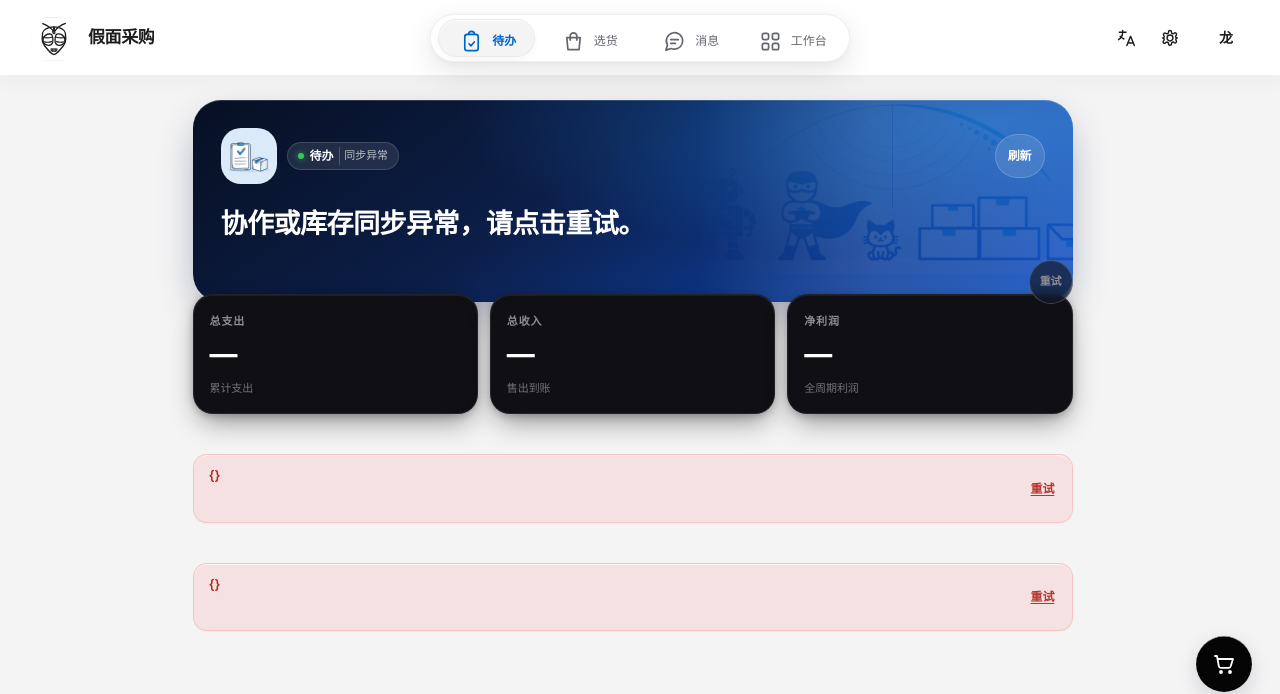
Scenario: Dashboard favorite synchronization › carries the full price split, seller state, value evidence and china reference in the detail
The width and height of the screenshot is (1280, 694).
Click the button with aria-label "选货" at (589, 41), box [538, 19, 640, 63]
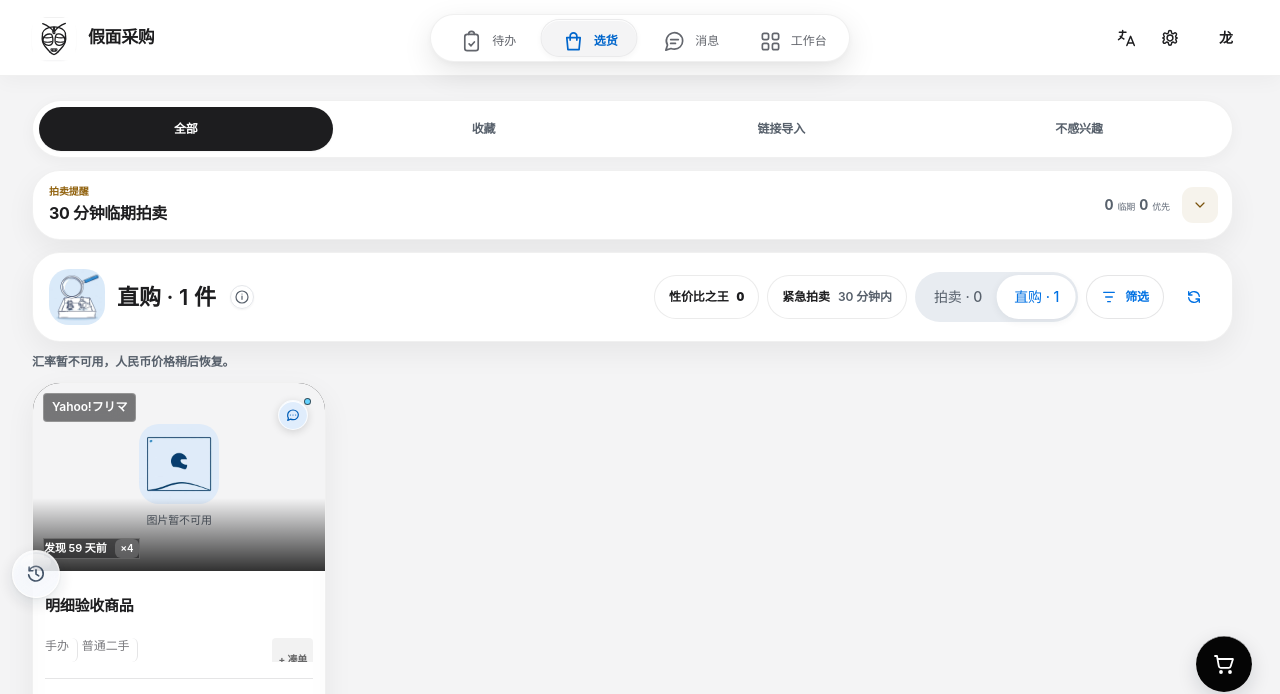
Result: the element named "在售商品类型" is shown at [915, 272, 1078, 322]
Result: the button named "打开商品：明细验收商品" is shown
Click the button named "打开商品：明细验收商品" at (179, 477), box [33, 383, 325, 571]
(page scrolled)
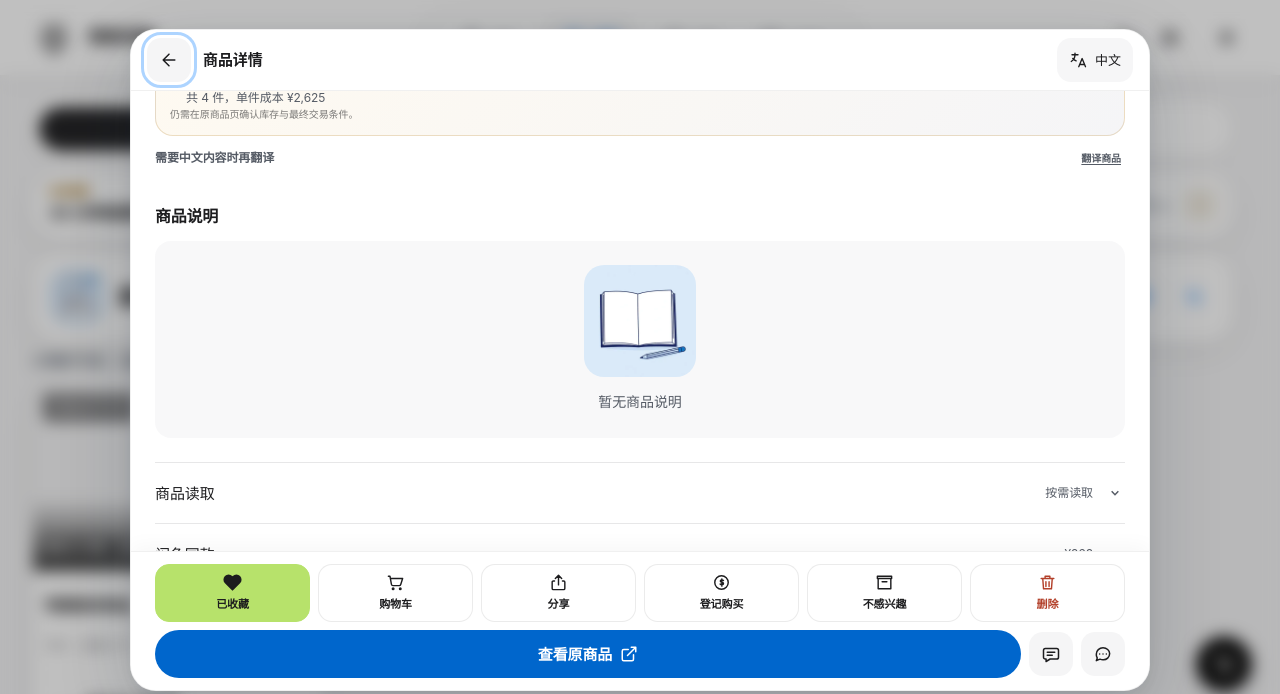
Result: the dialog is shown
Result: the dialog shows "共 4 件，单件成本 ¥2,625" at [186, 90, 325, 105]
Result: the dialog shows "暂无商品说明" at [598, 393, 682, 410]
